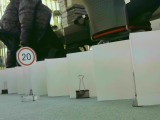speed_20: (16, 47, 37, 67)
